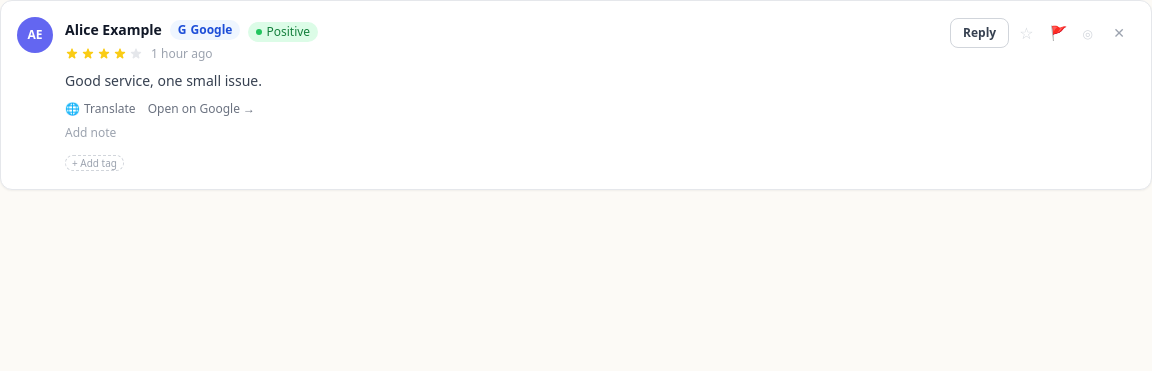
Scenario: ReviewCard › AI Draft button inside the editor generates a draft via /draft endpoint
Click the button with aria-label "reply to": (980,33) 950,18 -> 1009,48
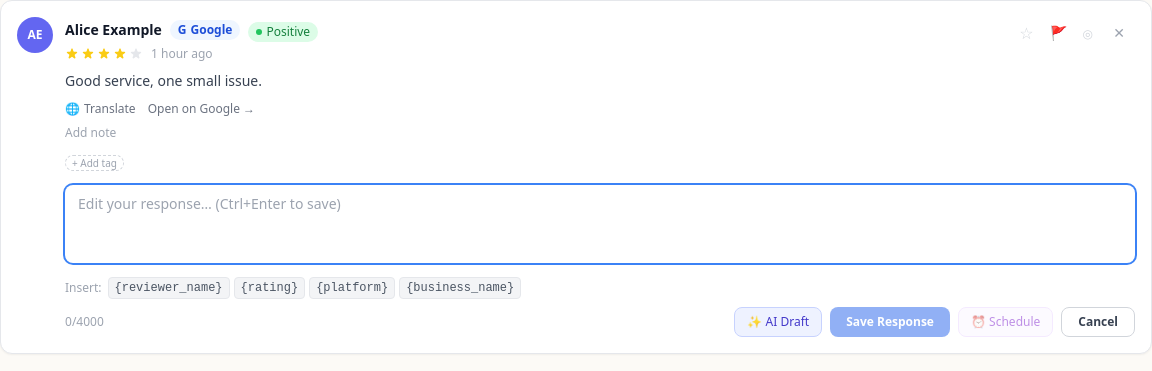
Click the button "✨ AI Draft": (778,322) 734,307 -> 822,337
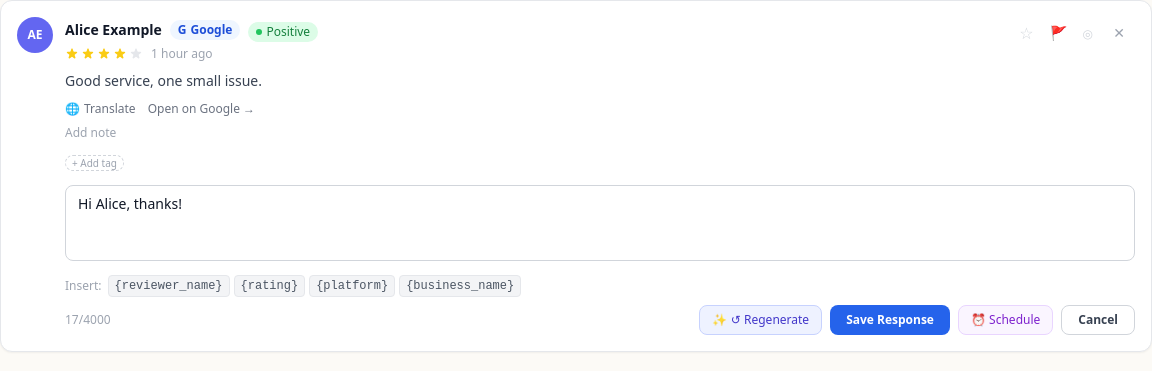
Expected: the text box named "response to" holds "Hi Alice, thanks!", 65,185 -> 1135,261
